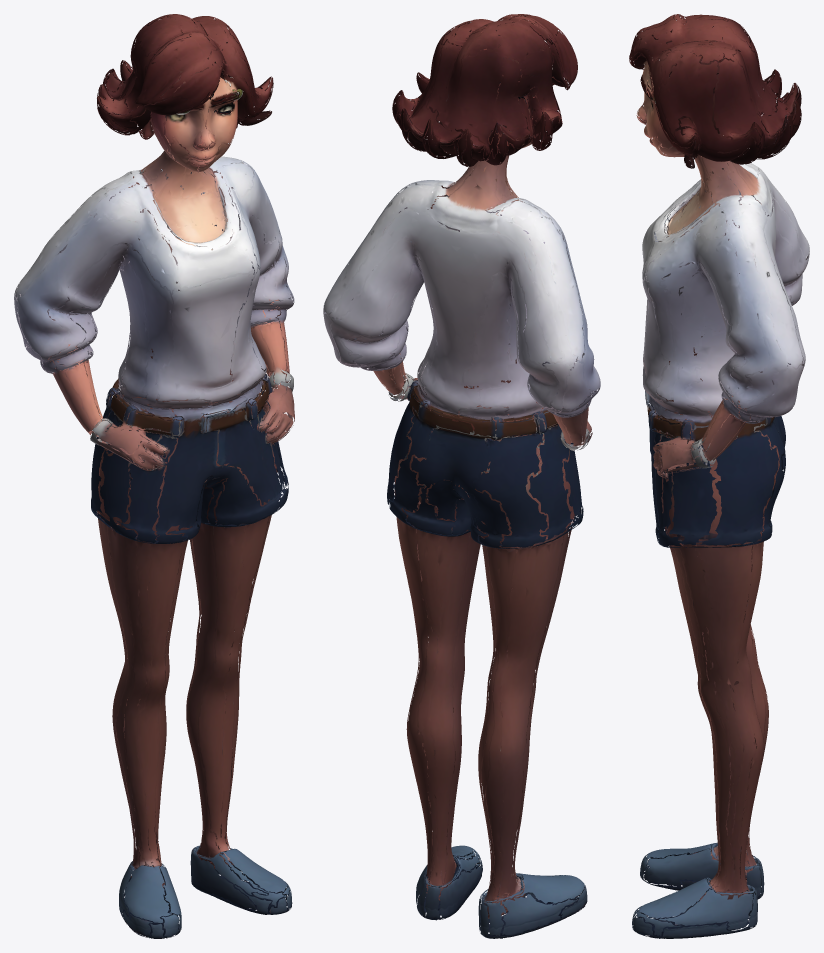
File: ana_v2.glb
The picture shows the model from 3 angles, left to right: view 1: azimuth 30°, elevation 25°; view 2: azimuth 150°, elevation 25°; view 3: azimuth 270°, elevation 25°; orthographic projection.
Parts seen in each view (by area): view 1: Mesh_0; view 2: Mesh_0; view 3: Mesh_0.
Boxes of the visible parts, box(x1,y1,x2,y2) form: Mesh_0: box(14, 14, 294, 938); Mesh_0: box(323, 14, 600, 938); Mesh_0: box(629, 14, 809, 938).
Bounding box in the file's own units: 0.5236 × 1.72 × 0.3187.
Materials: 2 (2 with a texture image).
